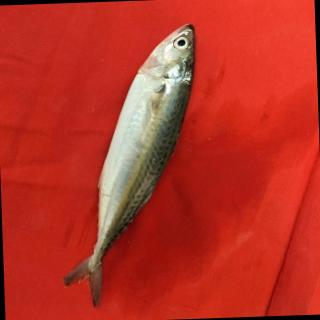Ikan: (46, 16, 215, 310)
